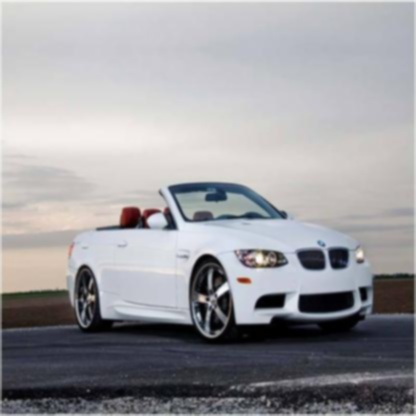Vehicle: (67, 178, 379, 346)
